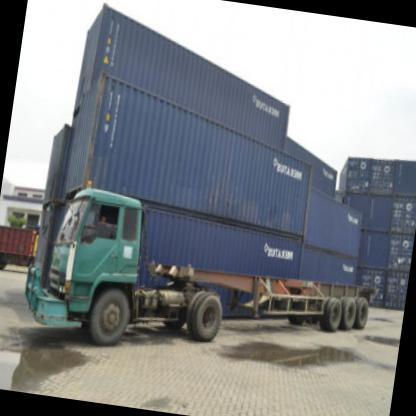truck: (35, 182, 153, 353)
